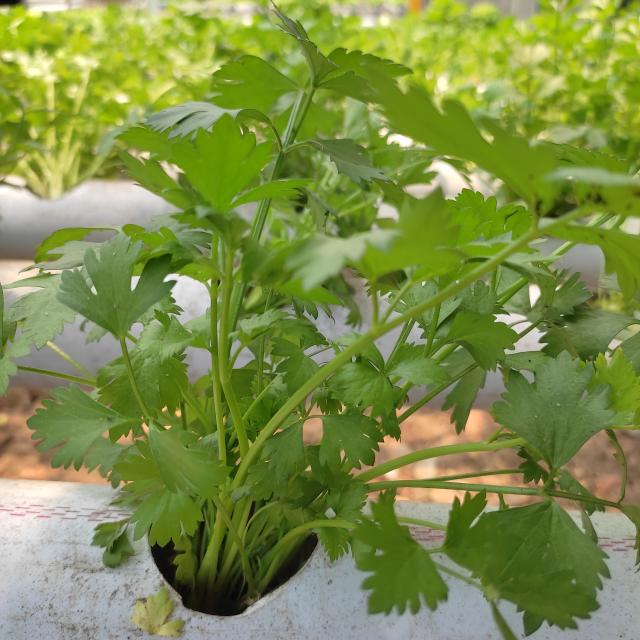Wet Waste: (17, 13, 625, 628)
